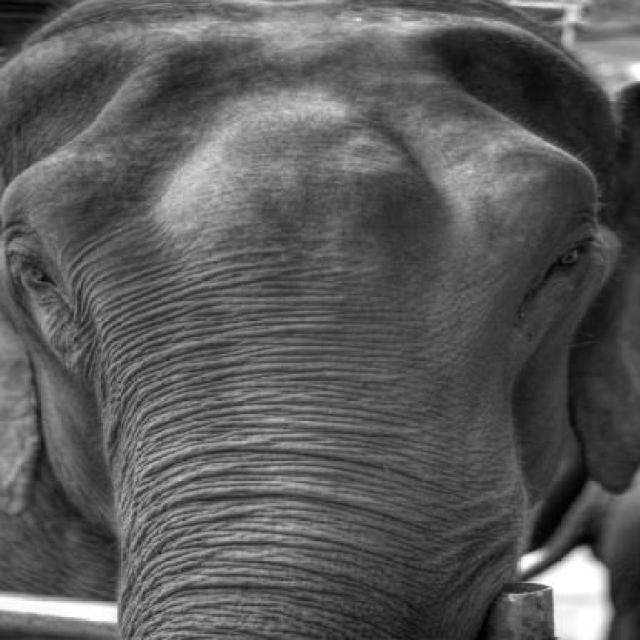Elephant: (1, 0, 633, 640)
